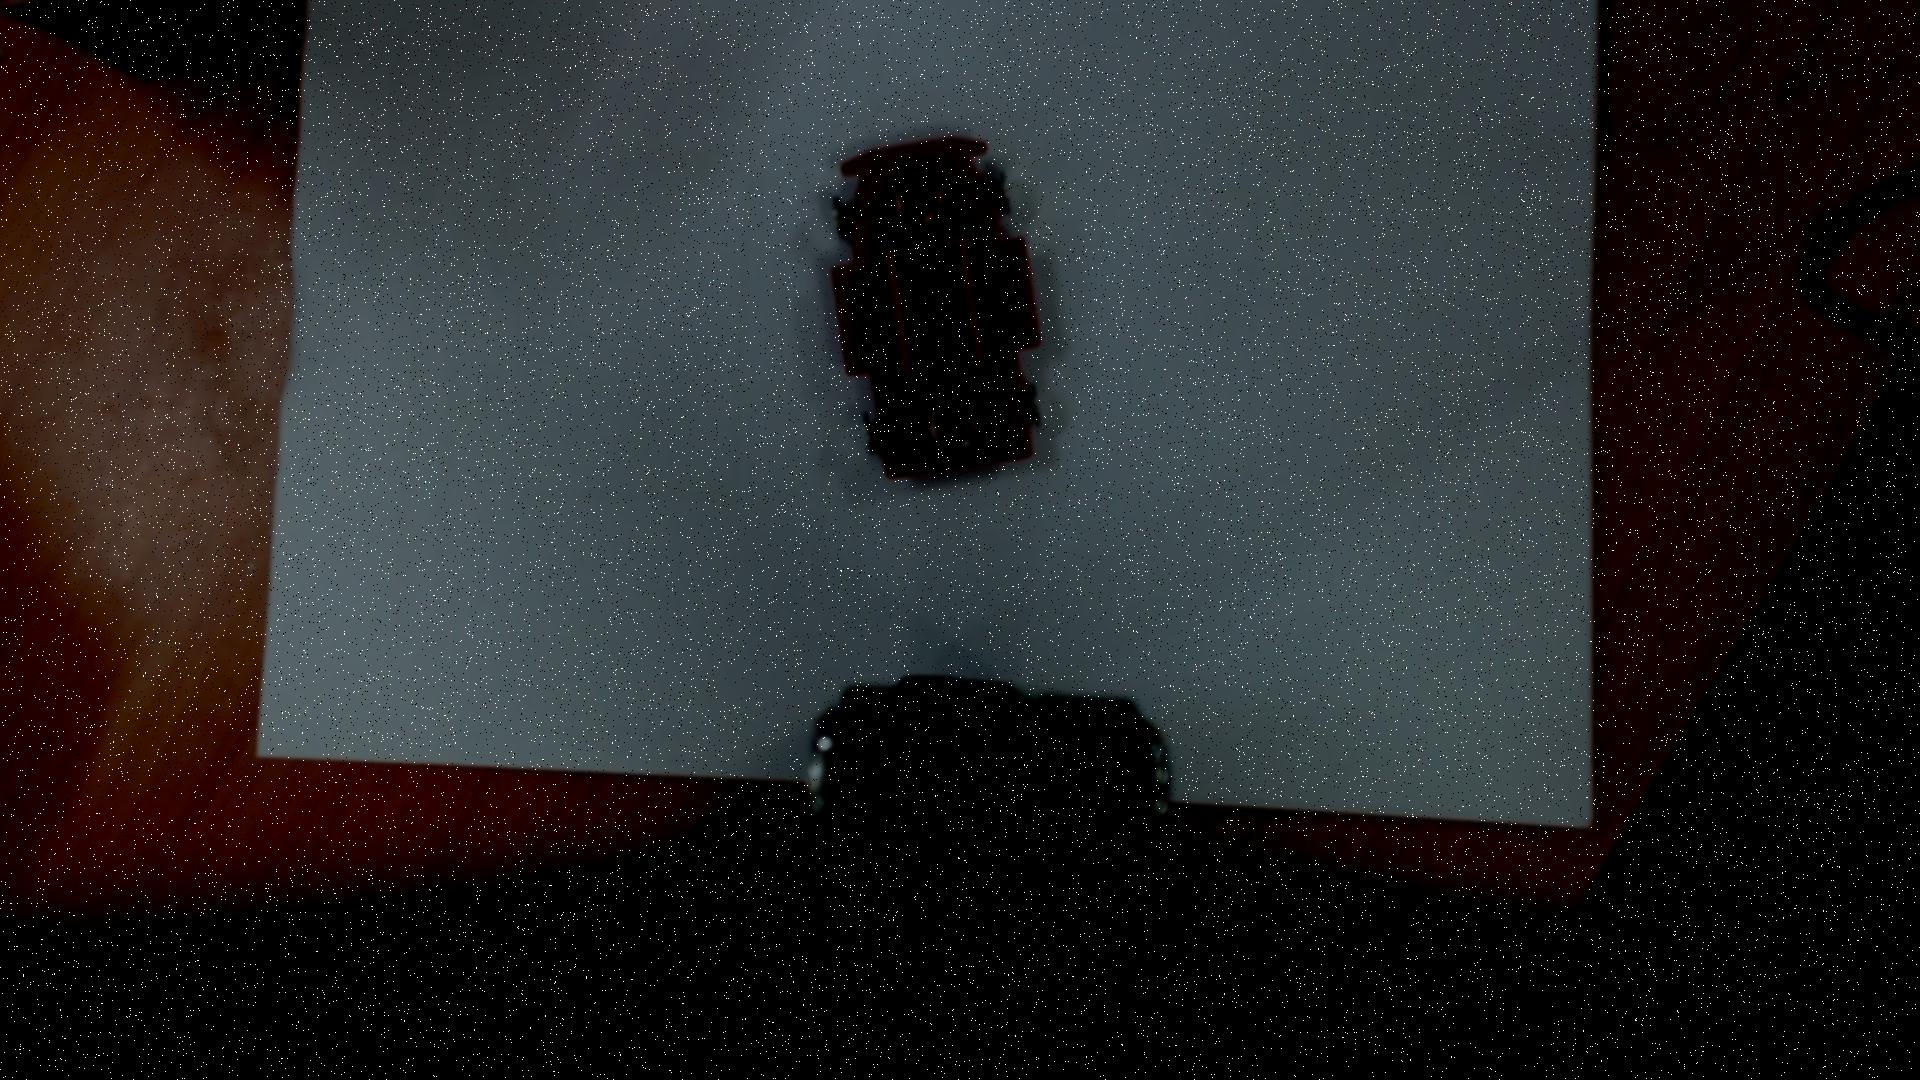lower_ok: (880, 230, 993, 389)
